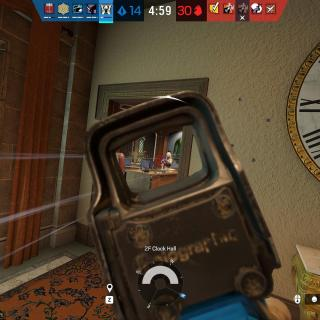Character: (160, 152, 175, 168)
Head: (166, 152, 172, 158)
